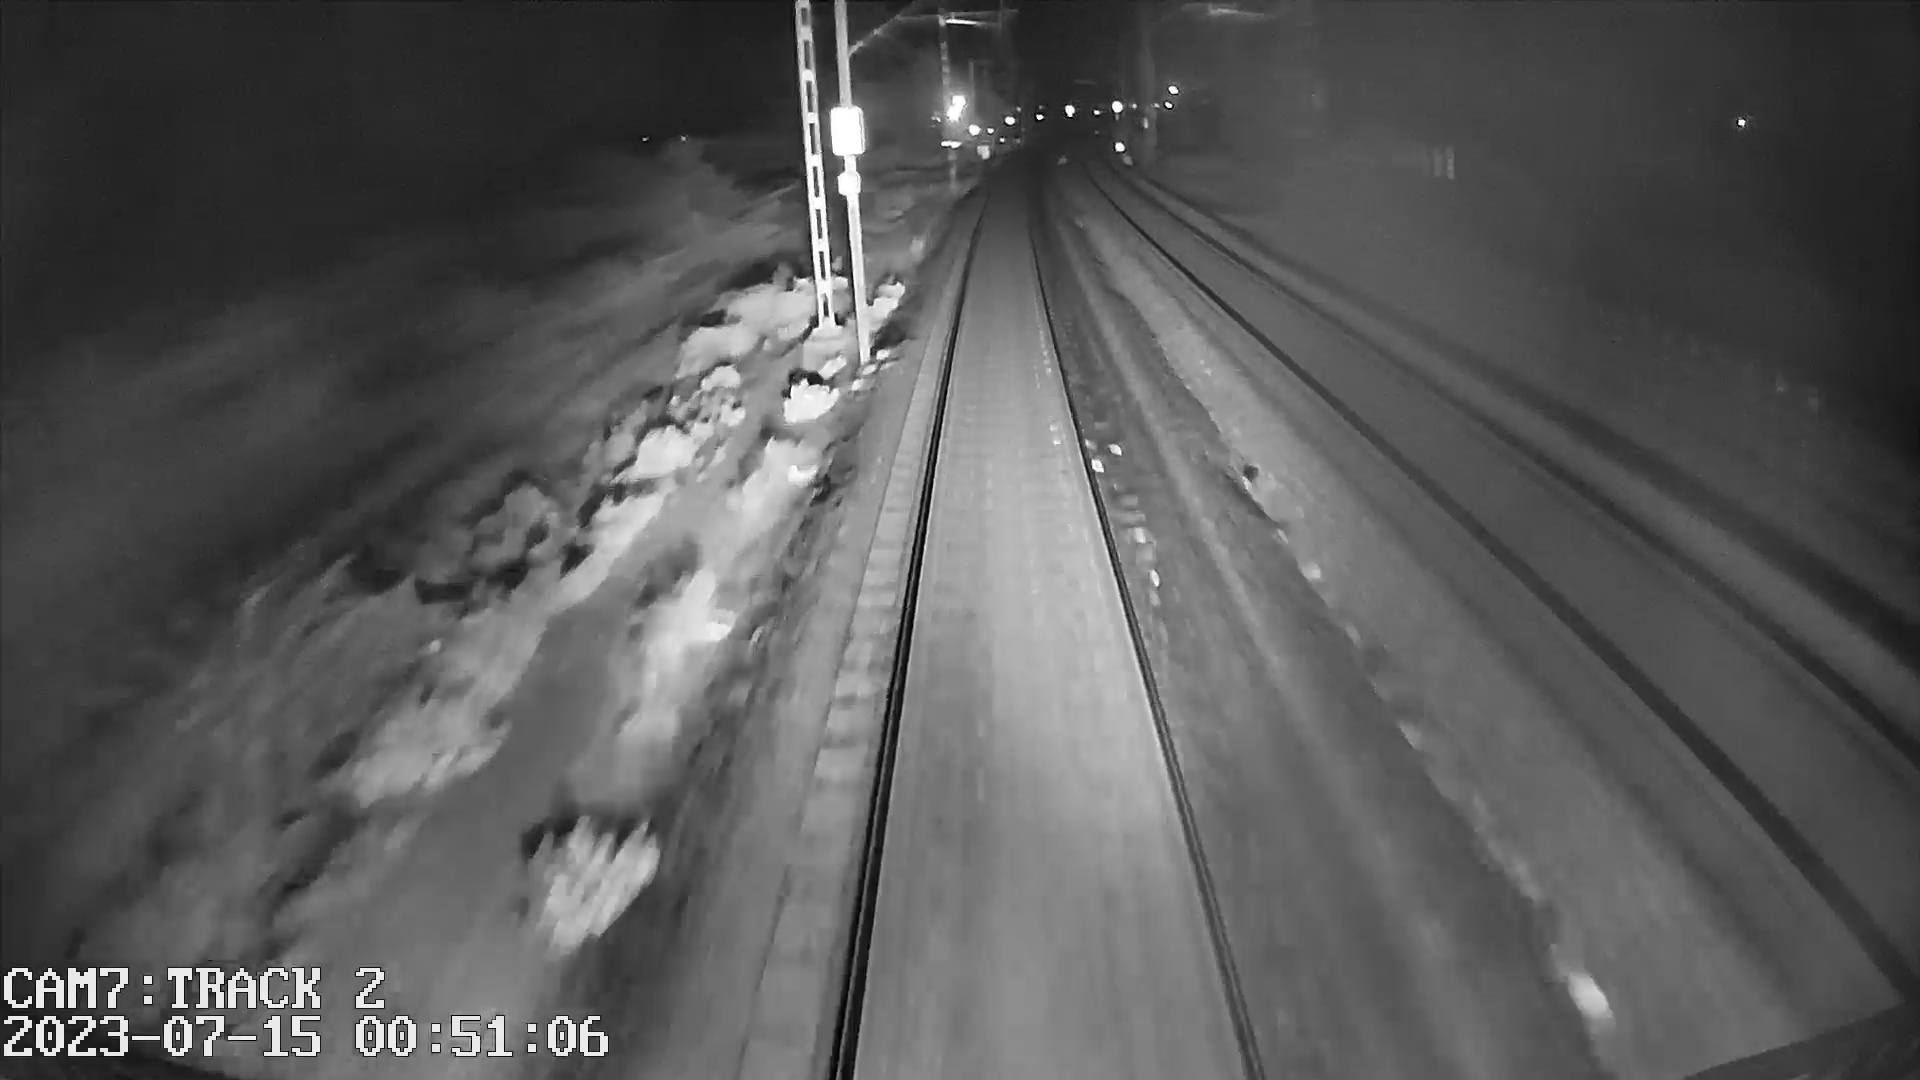track1: (844, 223, 1250, 1052)
track2: (1122, 204, 1900, 844)
